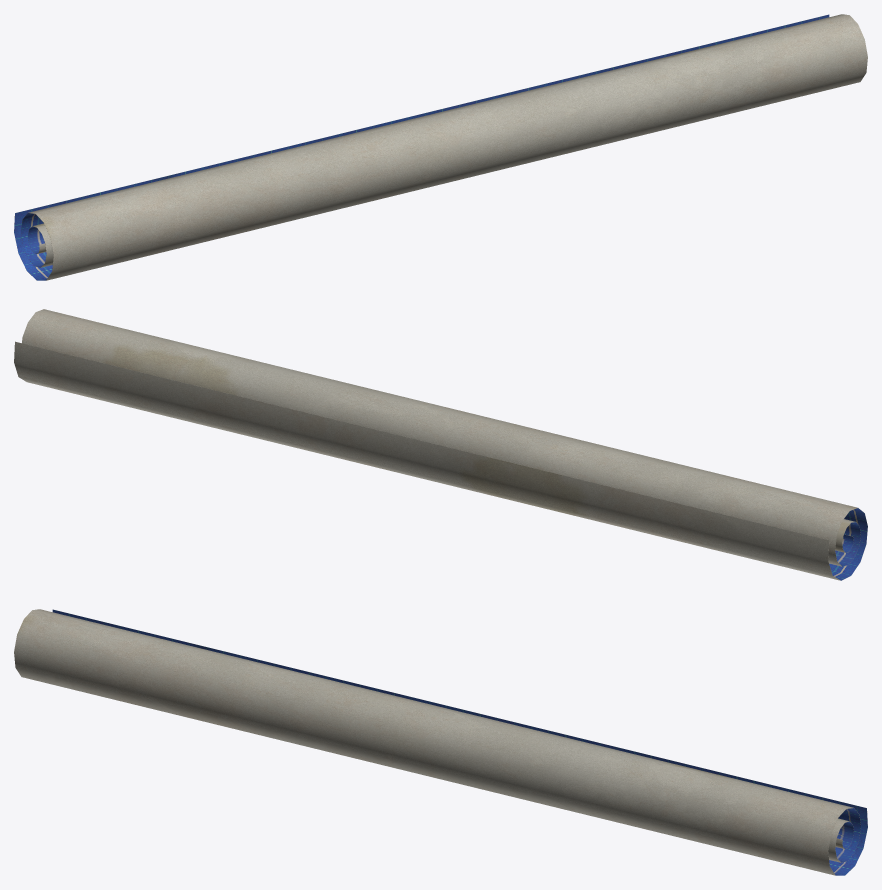
The model's file is Blueprints02.FBX.
3 renders of one model, top to bottom at view 1: azimuth 30°, elevation 25°; view 2: azimuth 150°, elevation 25°; view 3: azimuth 330°, elevation 25°, orthographic.
Visible parts, largest first — view 1: Blueprint02; view 2: Blueprint02; view 3: Blueprint02.
Part boxes in pixels (box(x1,y1,x2,y2)): Blueprint02: box(14, 14, 867, 280); Blueprint02: box(14, 309, 867, 580); Blueprint02: box(14, 609, 867, 875).
Size of the model in its own units: 96.66 by 7.48 by 8.17.
